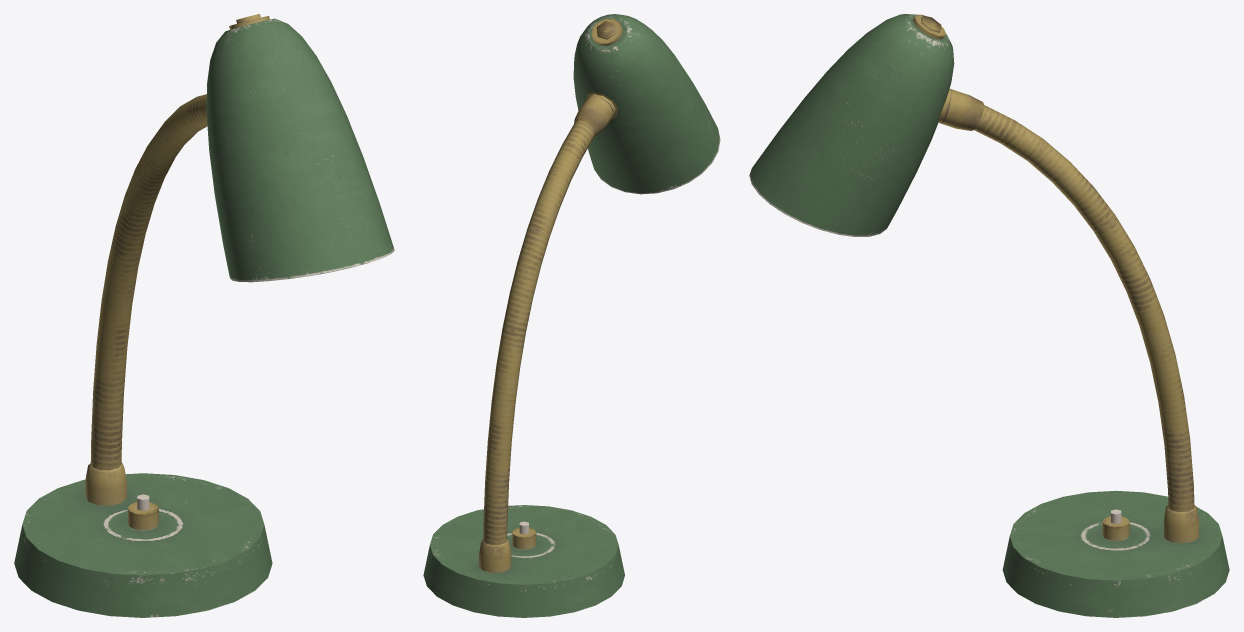
Rendered from DeskLamp.FBX.
3 renders of one model, left to right at view 1: azimuth 30°, elevation 25°; view 2: azimuth 150°, elevation 25°; view 3: azimuth 270°, elevation 25°, orthographic. The views are drawn at different scales.
Visible parts, largest first — view 1: DeskLamp_LOD0; view 2: DeskLamp_LOD0; view 3: DeskLamp_LOD0.
Boxes of the visible parts, x1=… form: DeskLamp_LOD0: x1=14, y1=14, x2=394, y2=617; DeskLamp_LOD0: x1=423, y1=14, x2=720, y2=617; DeskLamp_LOD0: x1=749, y1=14, x2=1229, y2=617.
Size of what is drawn, in the model's own units: 15 by 40.29 by 31.74.
